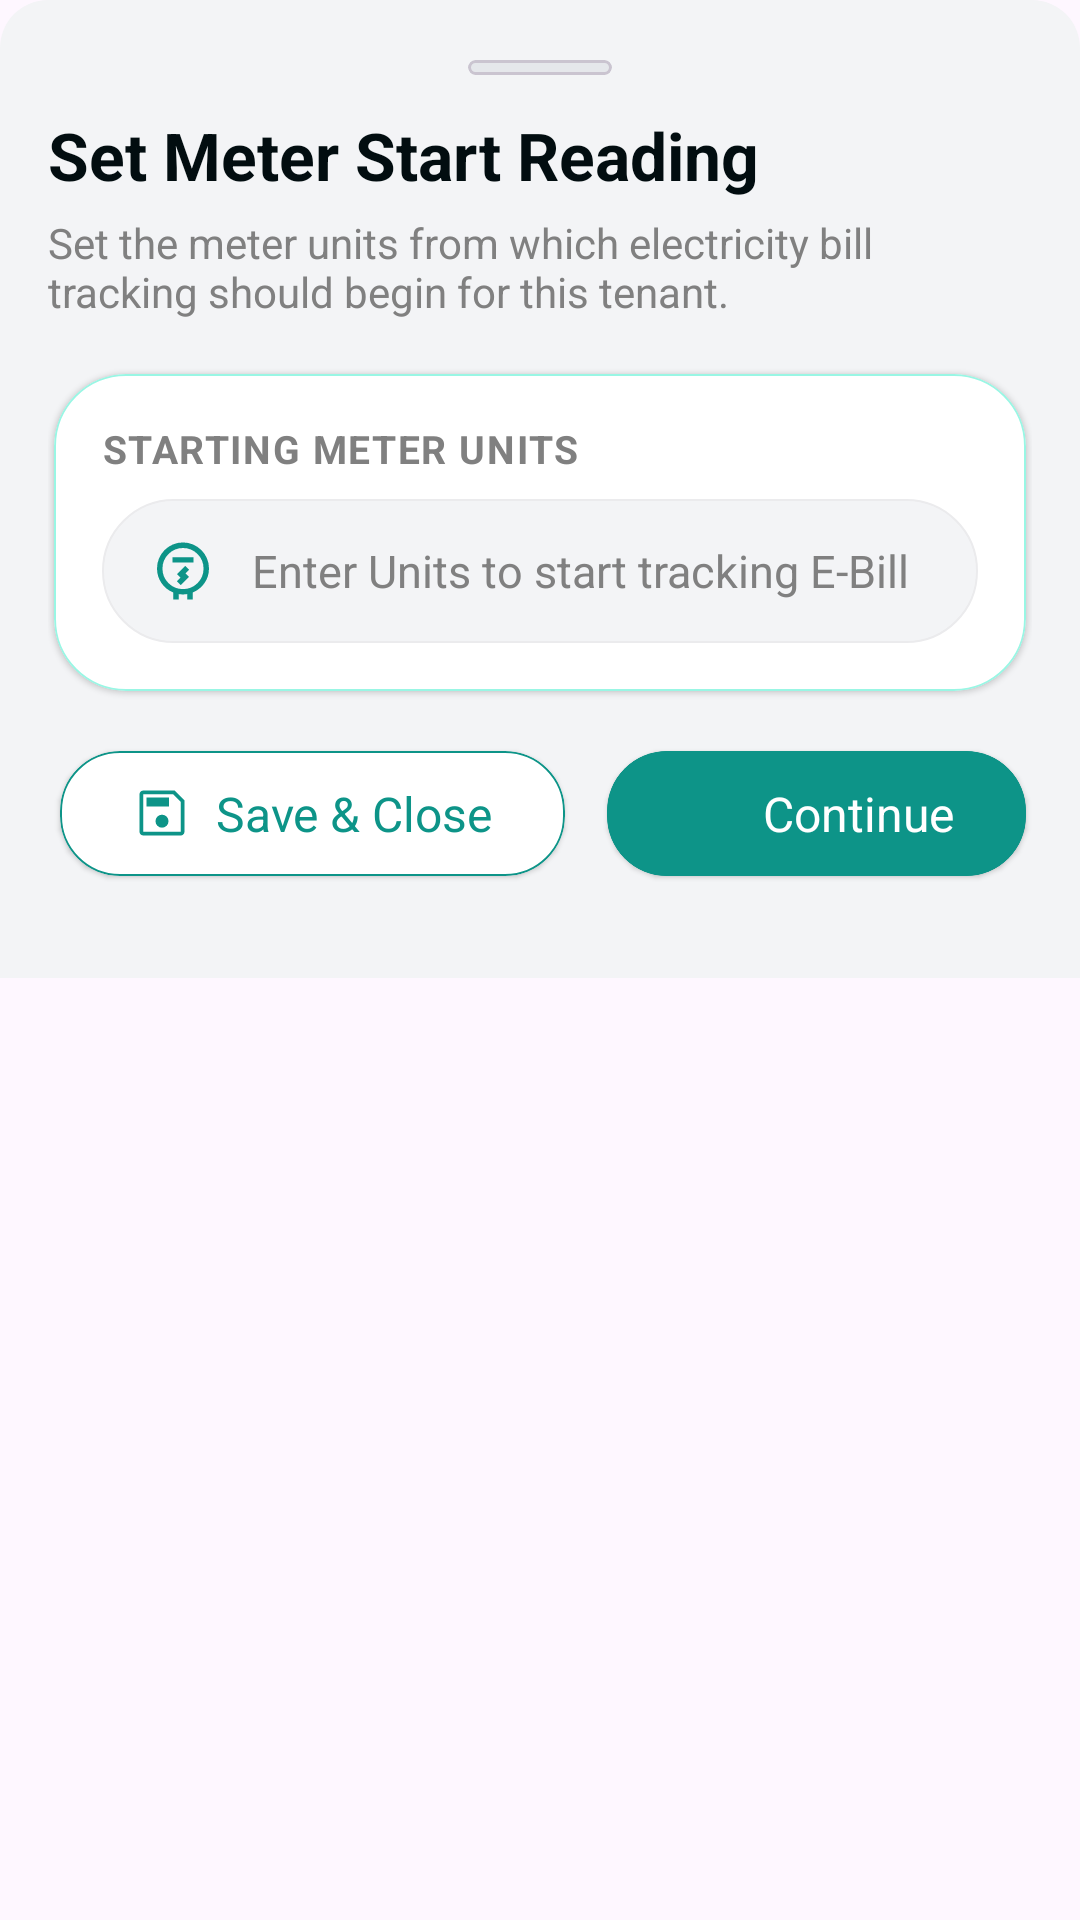

Icon click points for this 1080*1920 phone screenshot, format [x,y]:
meter reading: [183,571]
